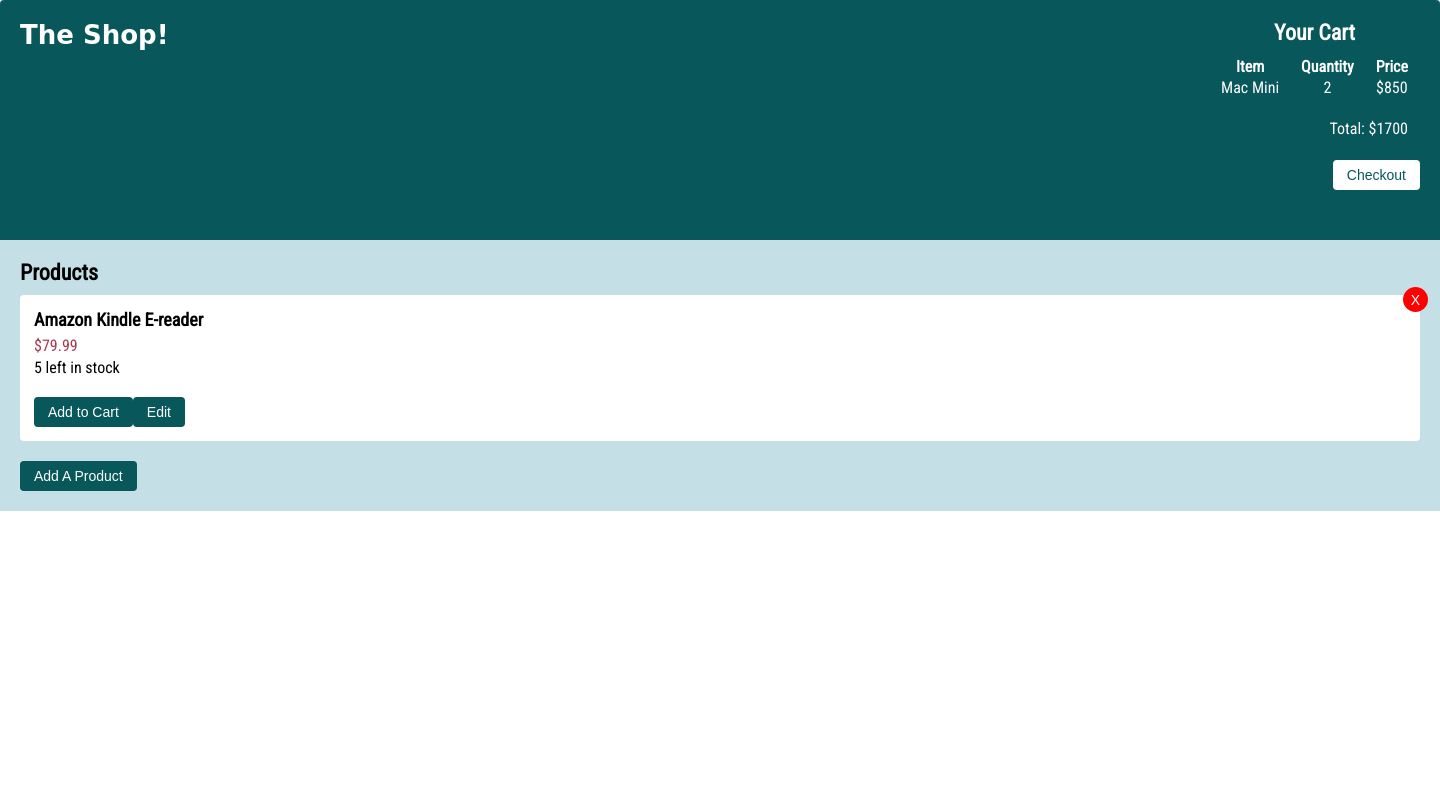
Scenario: New products from server are rendered
Click the button "Add A Product": (78, 476) [20,461,137,491]
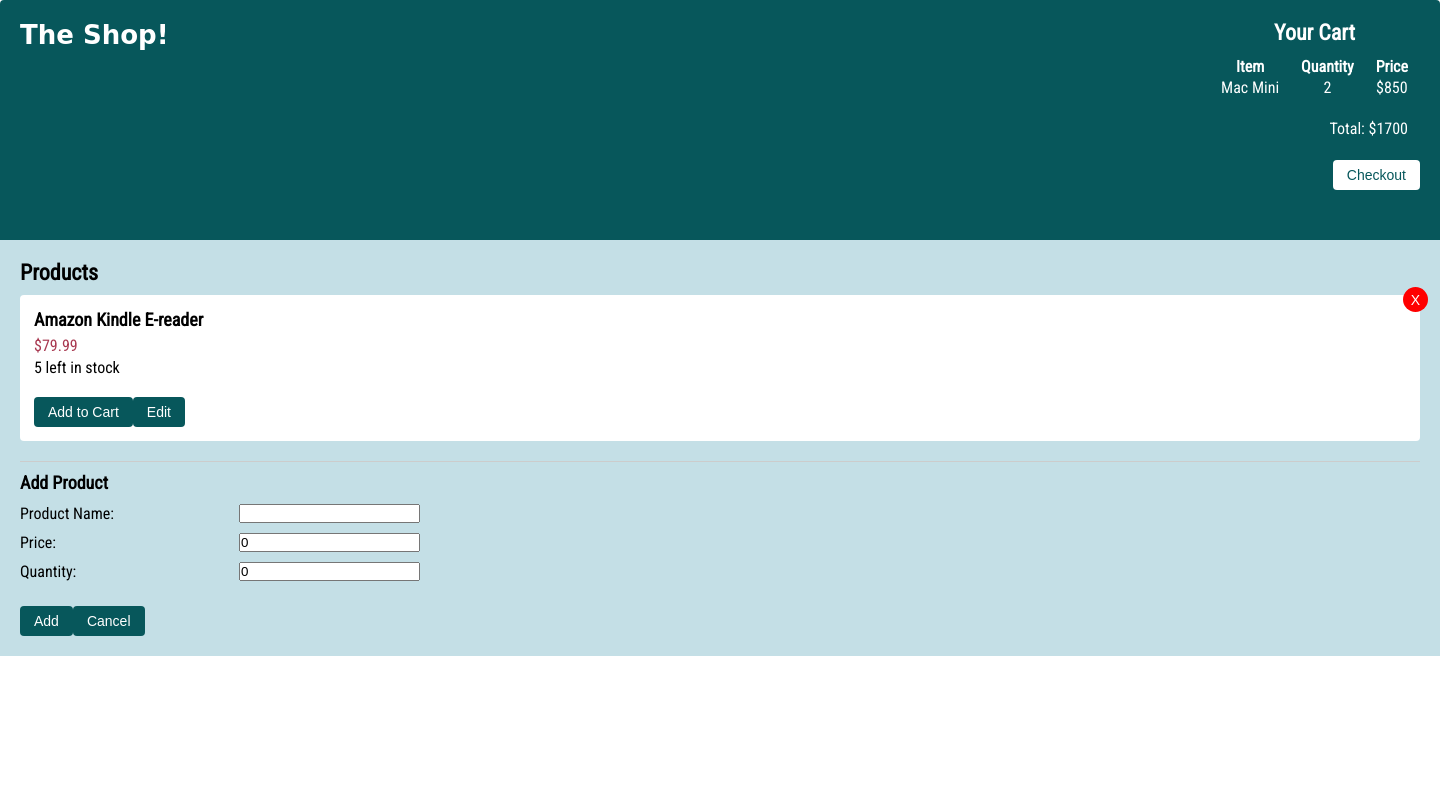
In the field labelled "Product Name:": (330, 514) [239,504,420,523], type "orange"
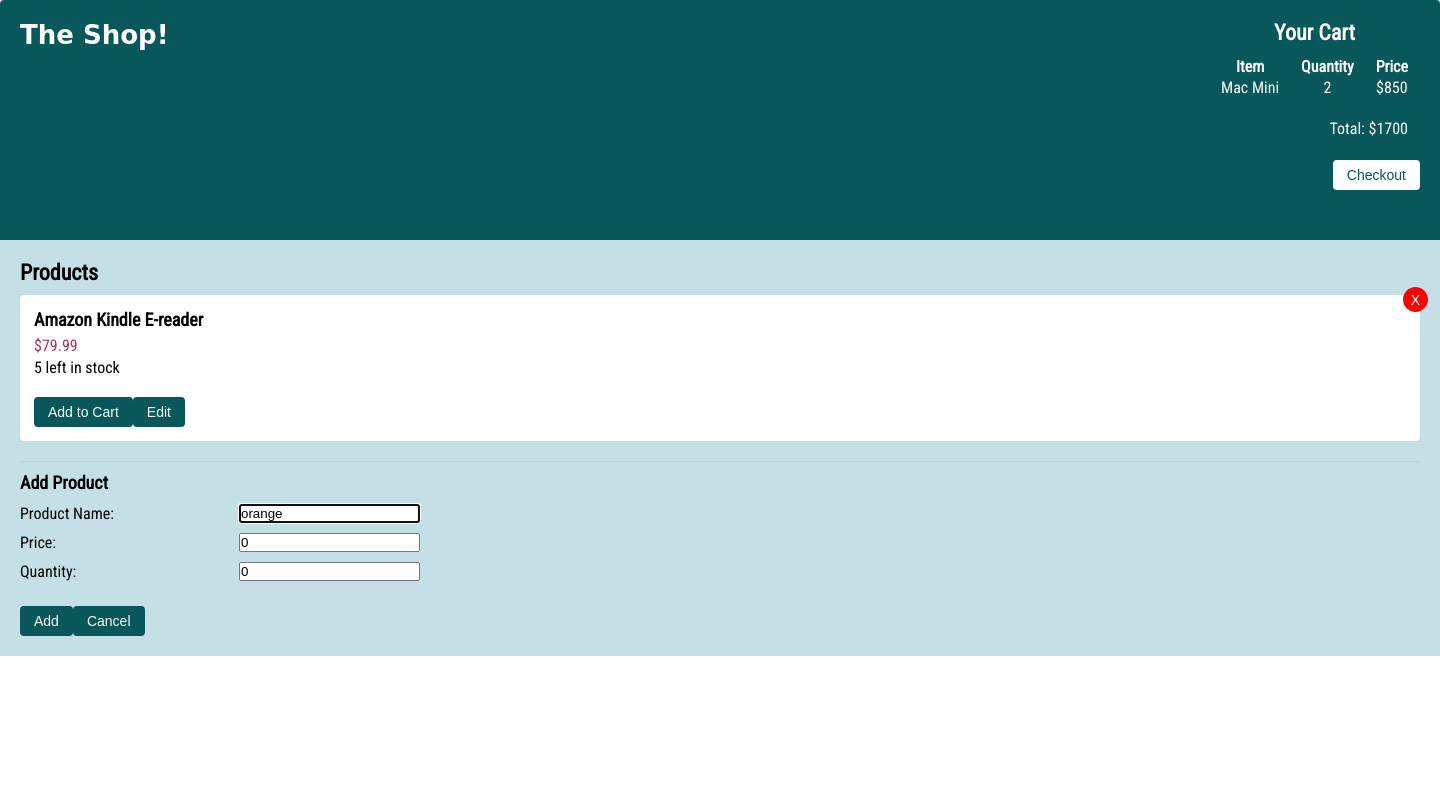
In the number field labelled "Quantity:": (330, 572) [239,562,420,581], type "43"
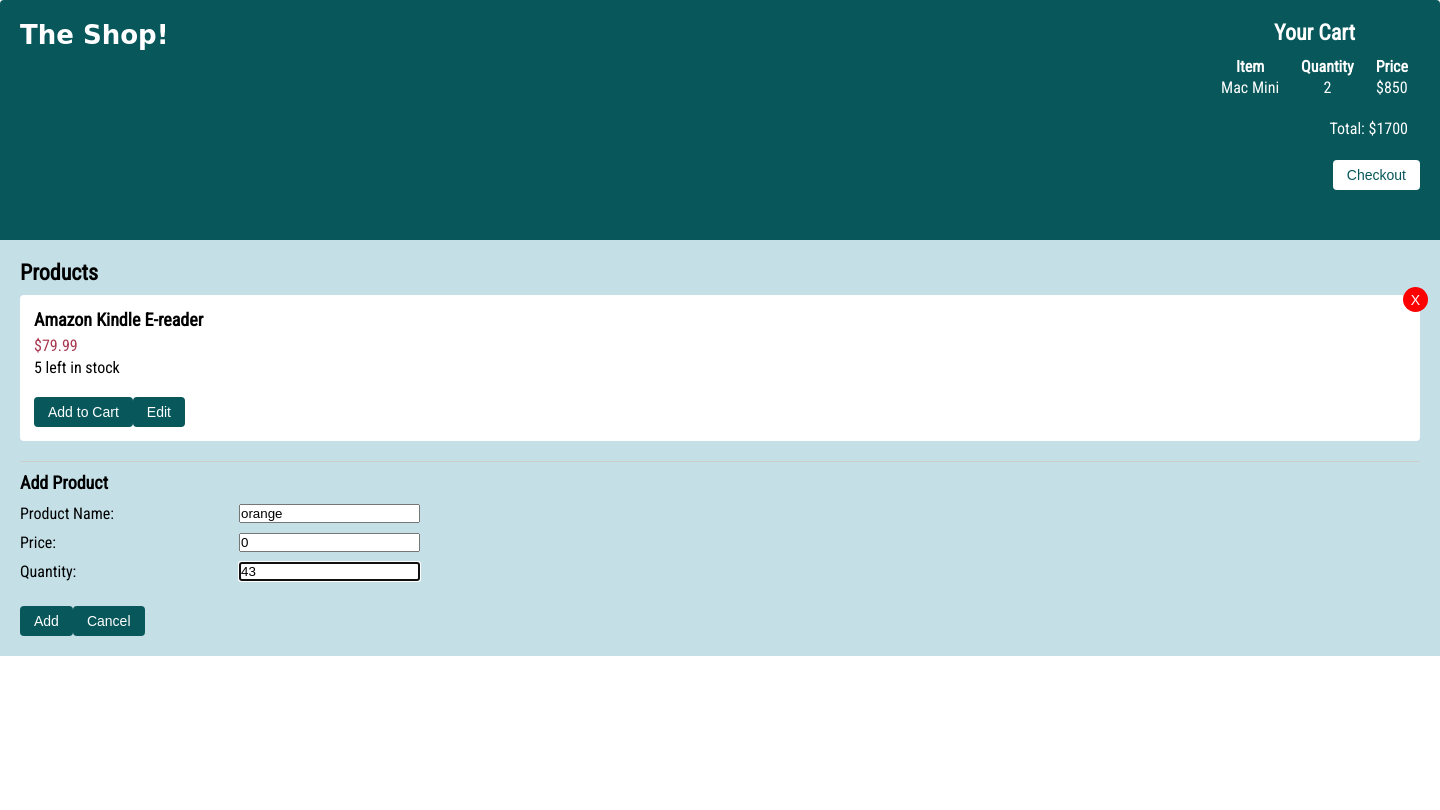
In the number field labelled "Price:": (330, 542) [239,533,420,552], type "89.99"
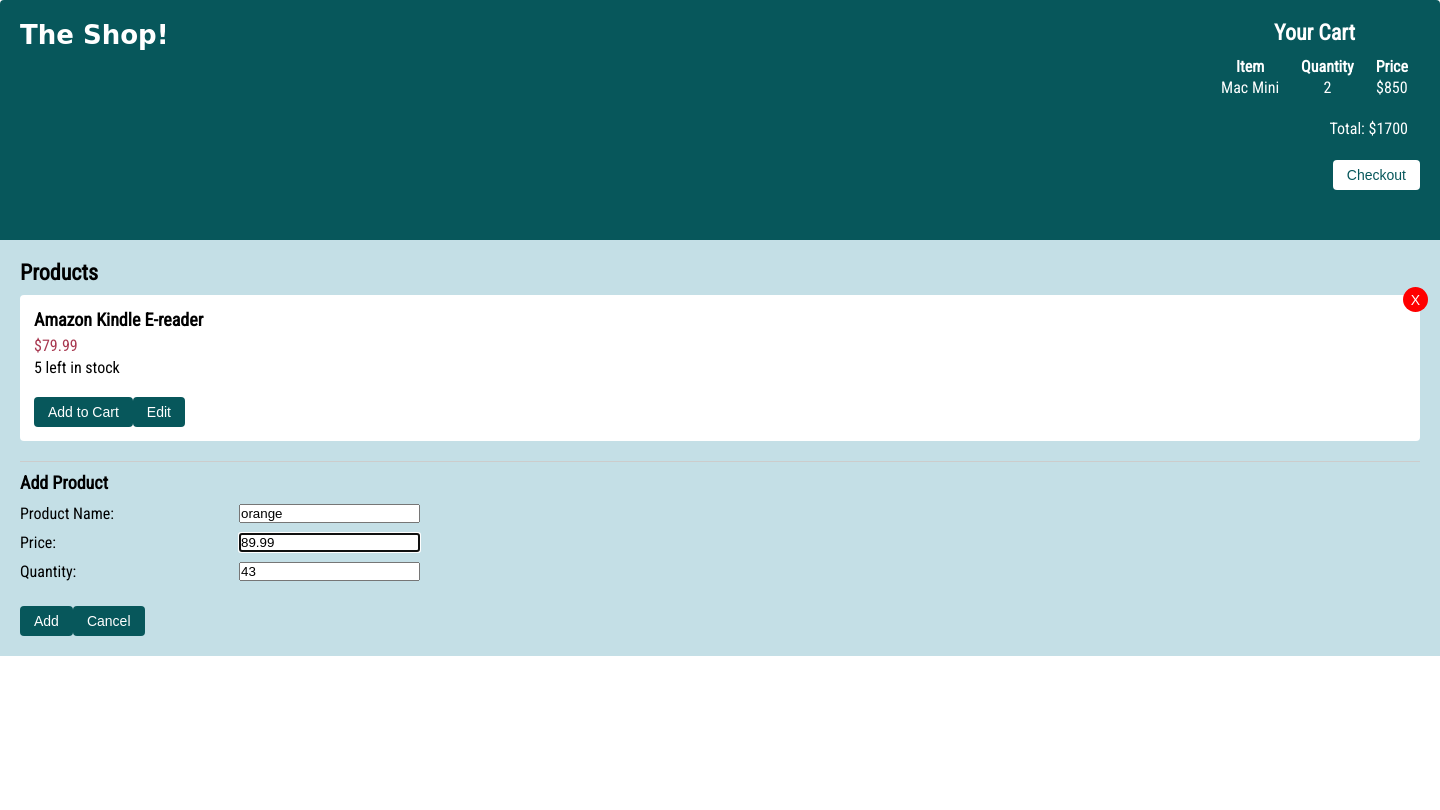
Click the button "Add": (46, 621) [20,606,73,636]
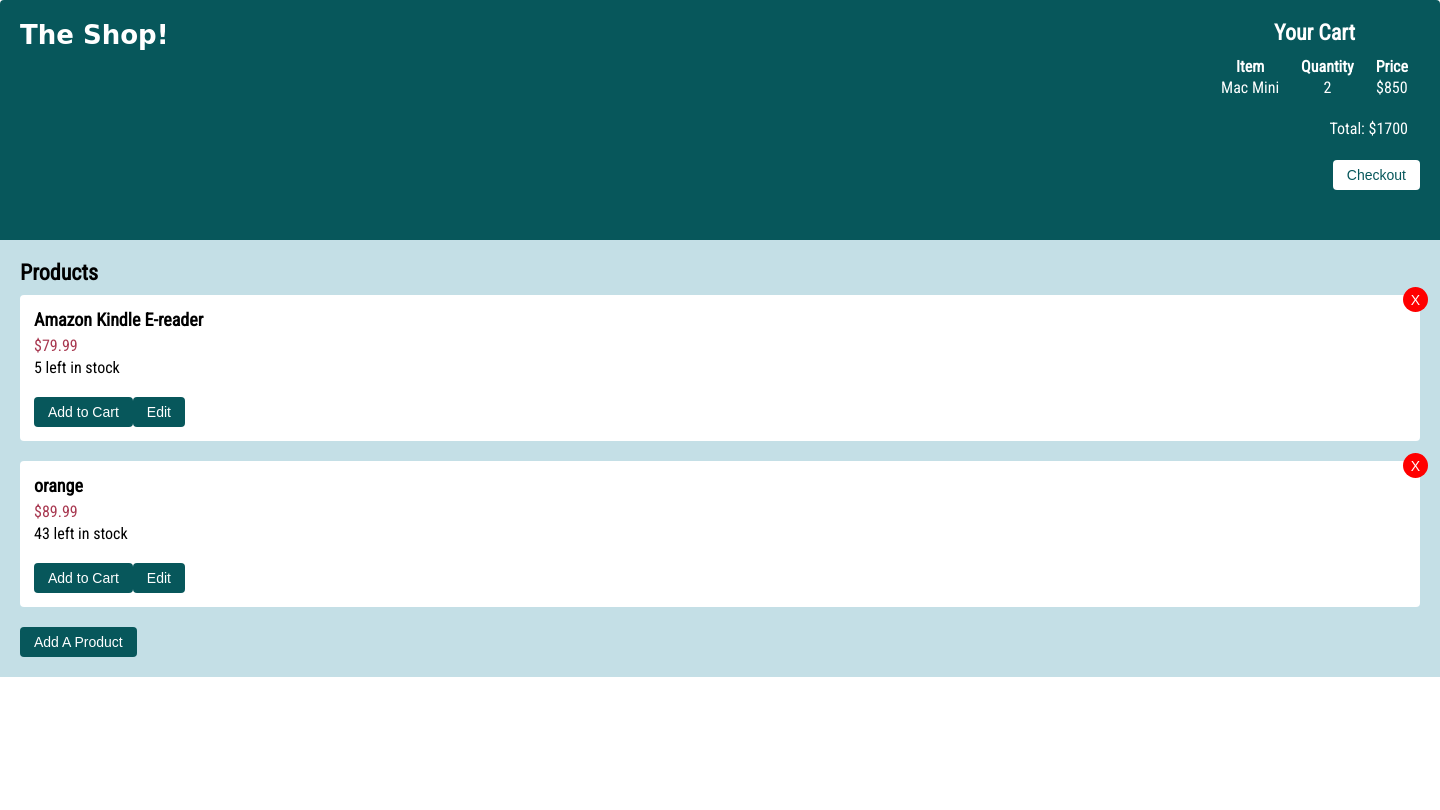
Expected: the heading "orange" is shown, [34,475,83,496]
